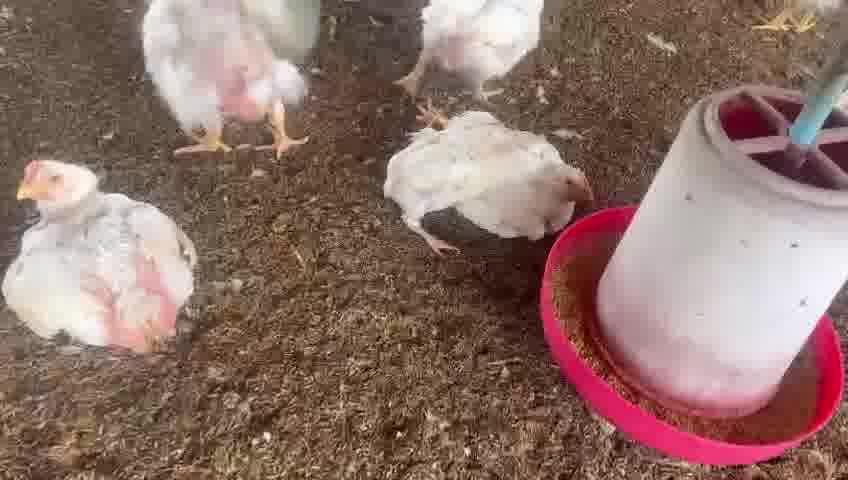AbNormal: (5, 156, 190, 354), (383, 106, 592, 250)
Normal: (142, 0, 311, 155), (397, 1, 541, 106)
